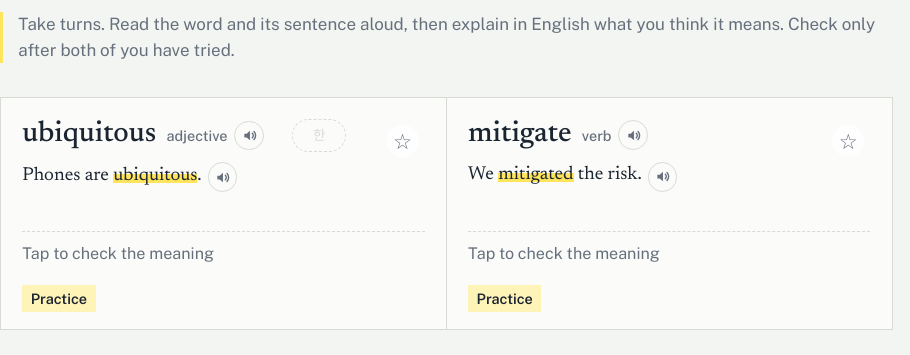
Test: VocabularyTab › keeps the Korean word hidden behind a pill until it is tapped, without opening the meaning
Expected: the text "어디에나 있는" is not shown
Click the button named "Korean for ubiquitous" at (319, 135), box [292,119,346,152]
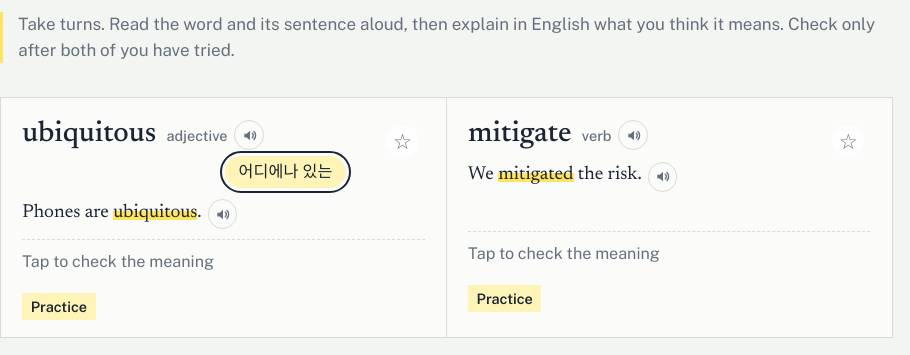
Expected: the number of buttons "Tap to check the meaning" is 2, [22,239,425,275]; [468,231,870,266]
Expected: the button with aria-label "Hide the Korean for ubiquitous" reads "어디에나 있는"
Click the button with aria-label "Hide the Korean for ubiquitous" at (286, 172), box [225,156,346,188]
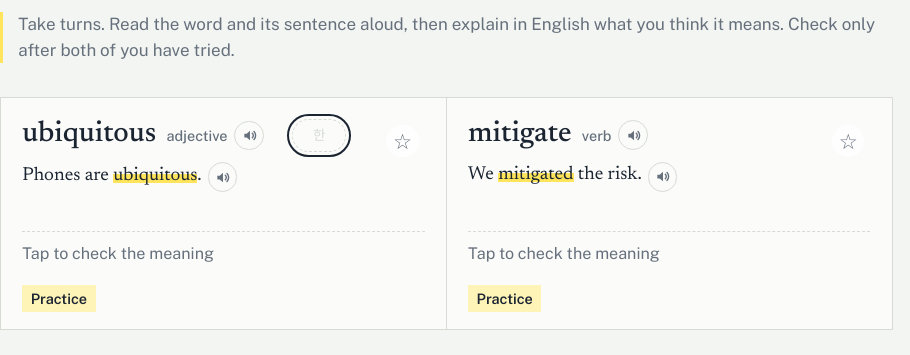
Expected: the button "어디에나 있는" is gone
